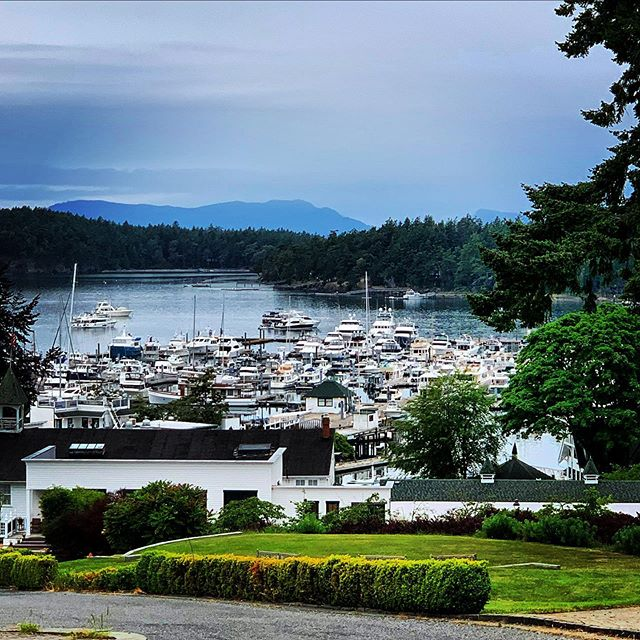building: (1, 418, 354, 524)
grass: (52, 526, 640, 608)
river: (22, 261, 573, 358)
sky: (1, 1, 640, 190)
tree: (506, 1, 640, 304), (519, 300, 640, 504), (394, 372, 503, 481)
vegetation: (5, 202, 538, 299)
